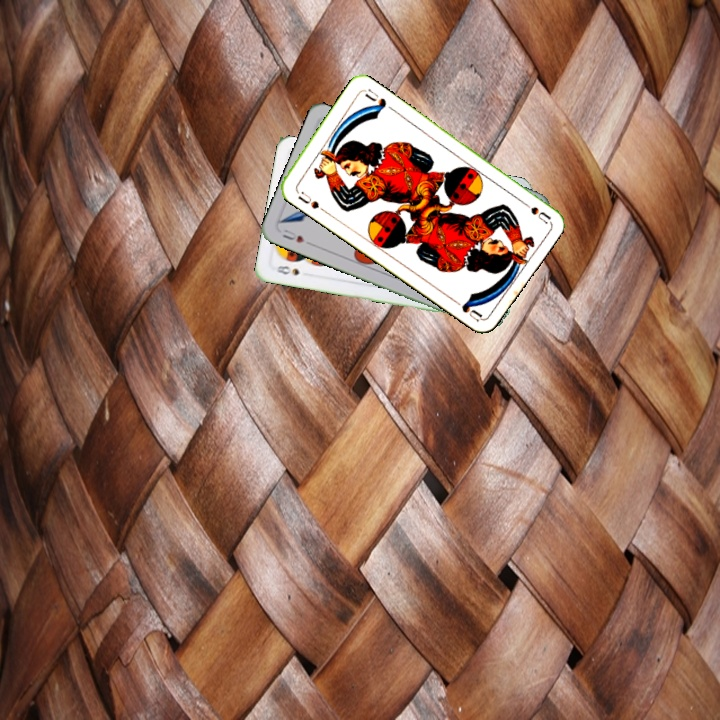HU: (278, 225, 307, 246)
S8: (272, 261, 302, 278)
SU: (515, 195, 552, 226), (292, 186, 328, 214)
